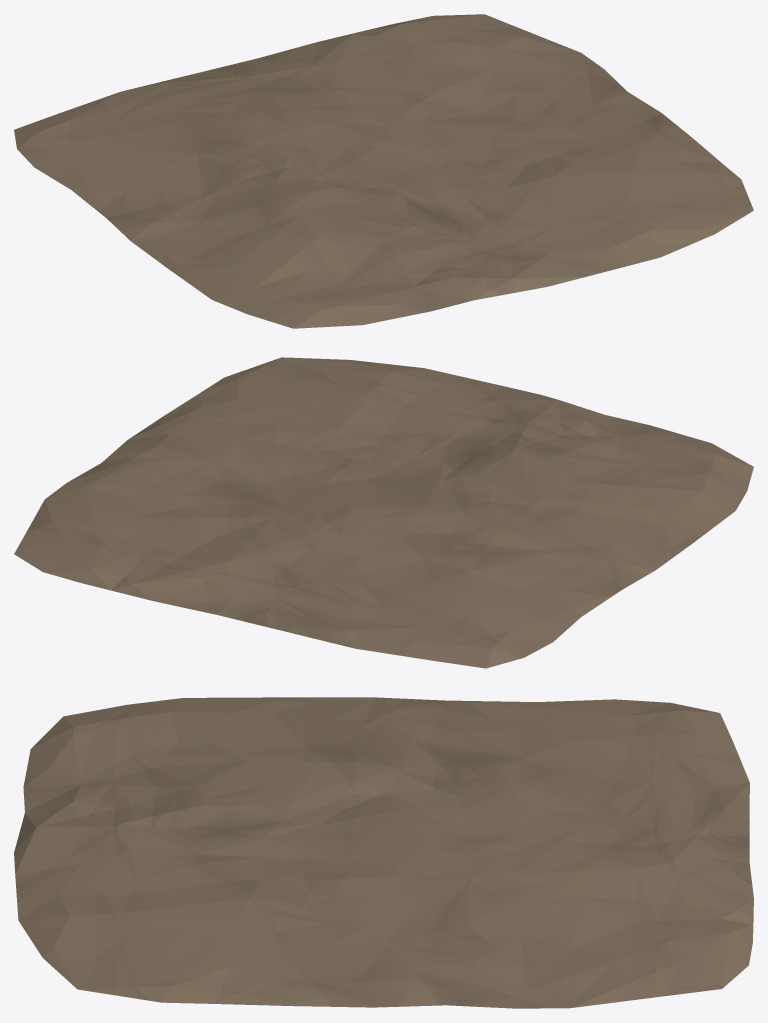
Rendered from SM_Env_Ground_Farm_Flat_01.fbx.
3 views of the same model, one above another, from view 1: azimuth 30°, elevation 25°; view 2: azimuth 150°, elevation 25°; view 3: azimuth 270°, elevation 25° (orthographic). The views are drawn at different scales.
Visible parts, largest first — view 1: SM_Env_Ground_Farm_Flat_01; view 2: SM_Env_Ground_Farm_Flat_01; view 3: SM_Env_Ground_Farm_Flat_01.
Part boxes in pixels (<box>): SM_Env_Ground_Farm_Flat_01: <box>14,14,753,328</box>; SM_Env_Ground_Farm_Flat_01: <box>14,357,753,668</box>; SM_Env_Ground_Farm_Flat_01: <box>14,697,753,1008</box>.
Size of the model in its own units: 1039 by 30.06 by 1044.
